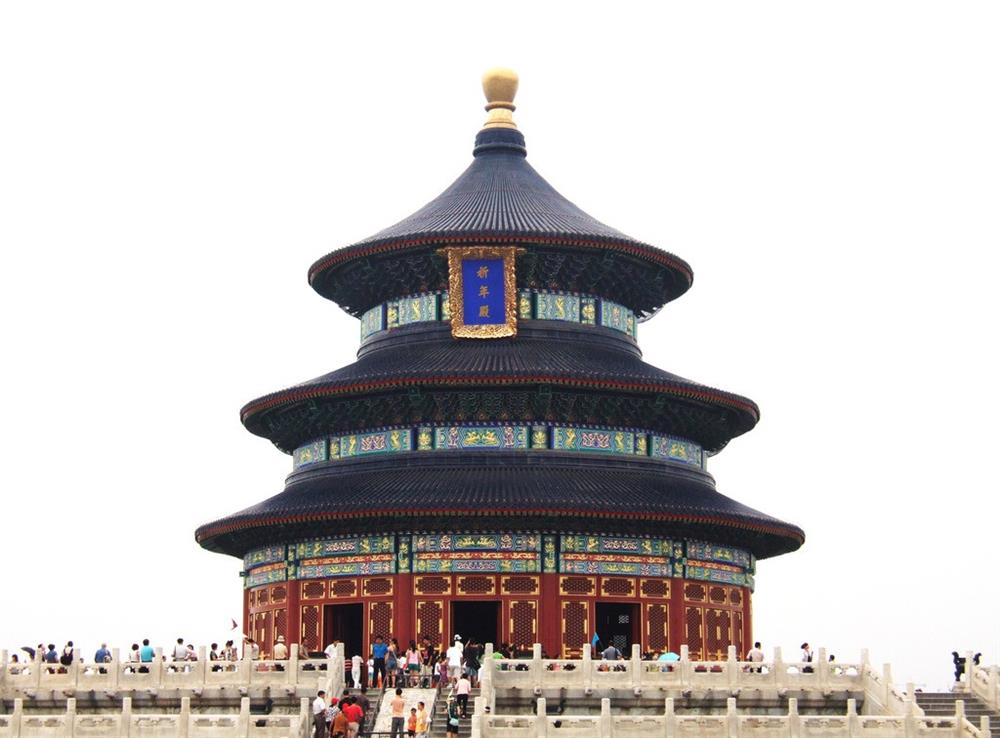Temple_of_Heaven: (193, 63, 808, 666)
